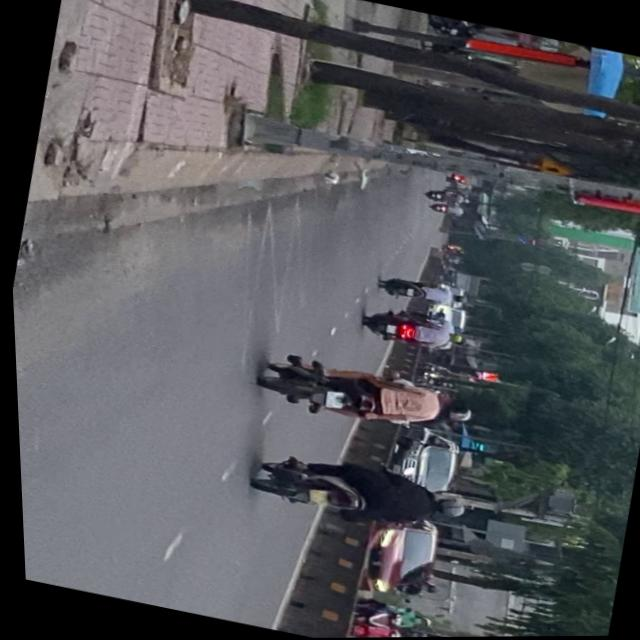helmet: (435, 402, 470, 426), (428, 497, 462, 521)
licenseplate: (248, 346, 476, 448), (242, 442, 468, 543)
motorcyclist: (433, 396, 466, 416)
nohelmet: (320, 390, 341, 409), (305, 489, 326, 508)
